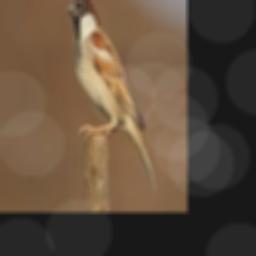Sparrow: (66, 0, 157, 191)
